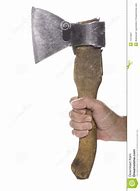axe: (29, 5, 120, 182)
